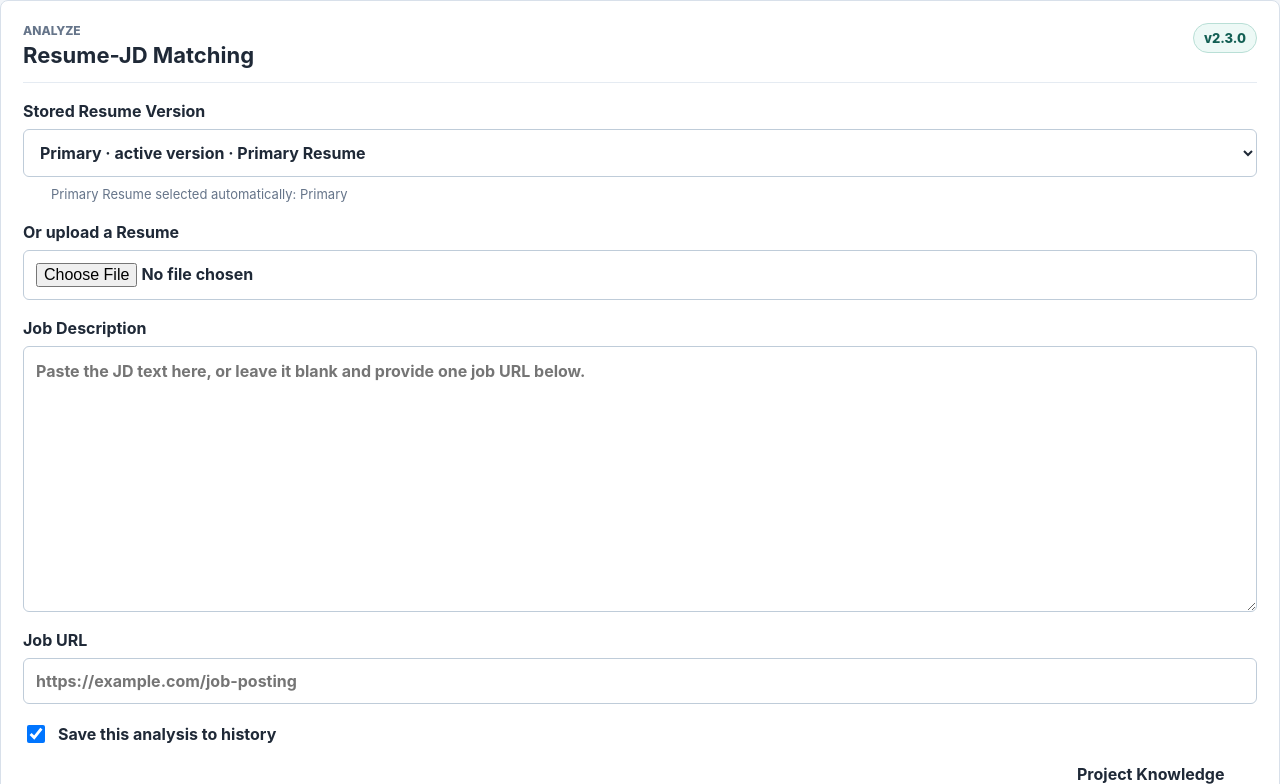
Scenario: Version 2.0.1 simplified workspace › shows a complete result without a normalization warning
Expected: the text "Primary Resume selected automatically: Primary" is shown, [51,186,348,202]
Step 1. Replace the text in the text box labelled "Job Description" with "Synthetic role" → (640, 479), box [23,346,1257,612]
(page scrolled)
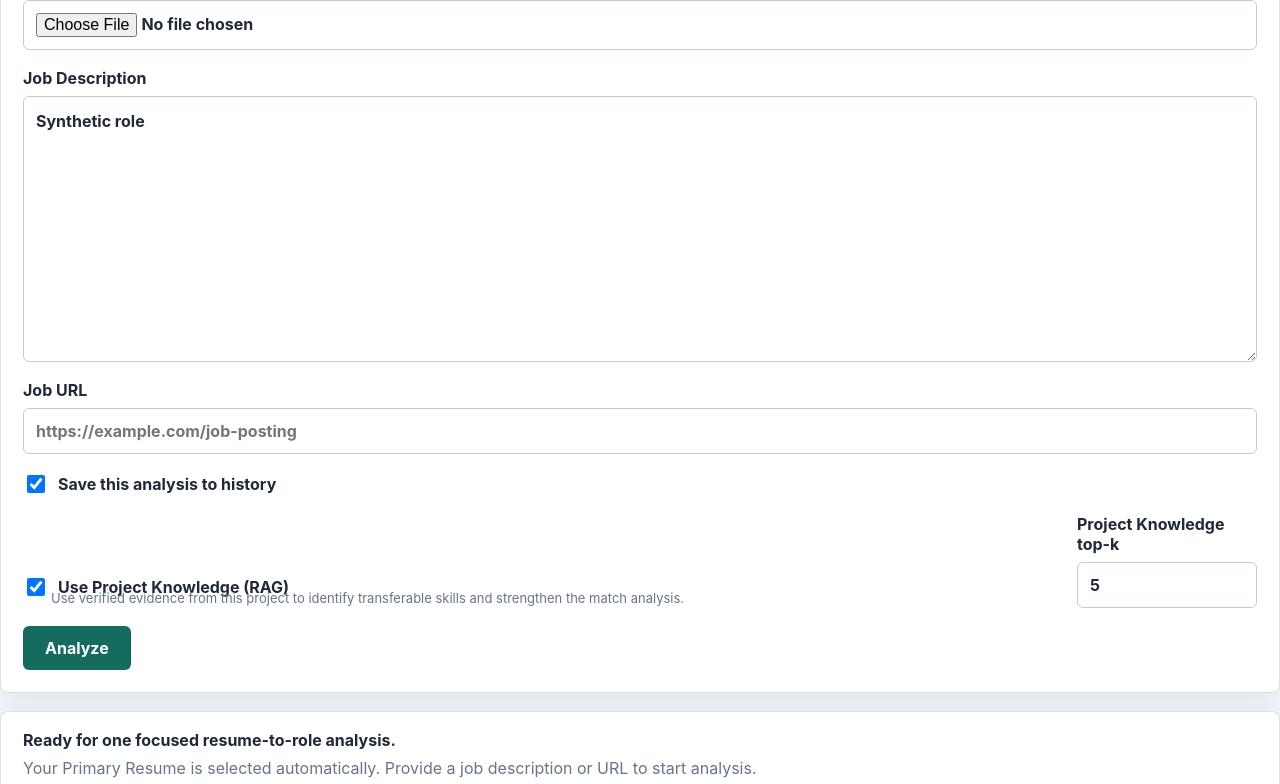
Step 2. Click the button "Analyze" → (77, 648), box [23,626,131,670]
(page scrolled)
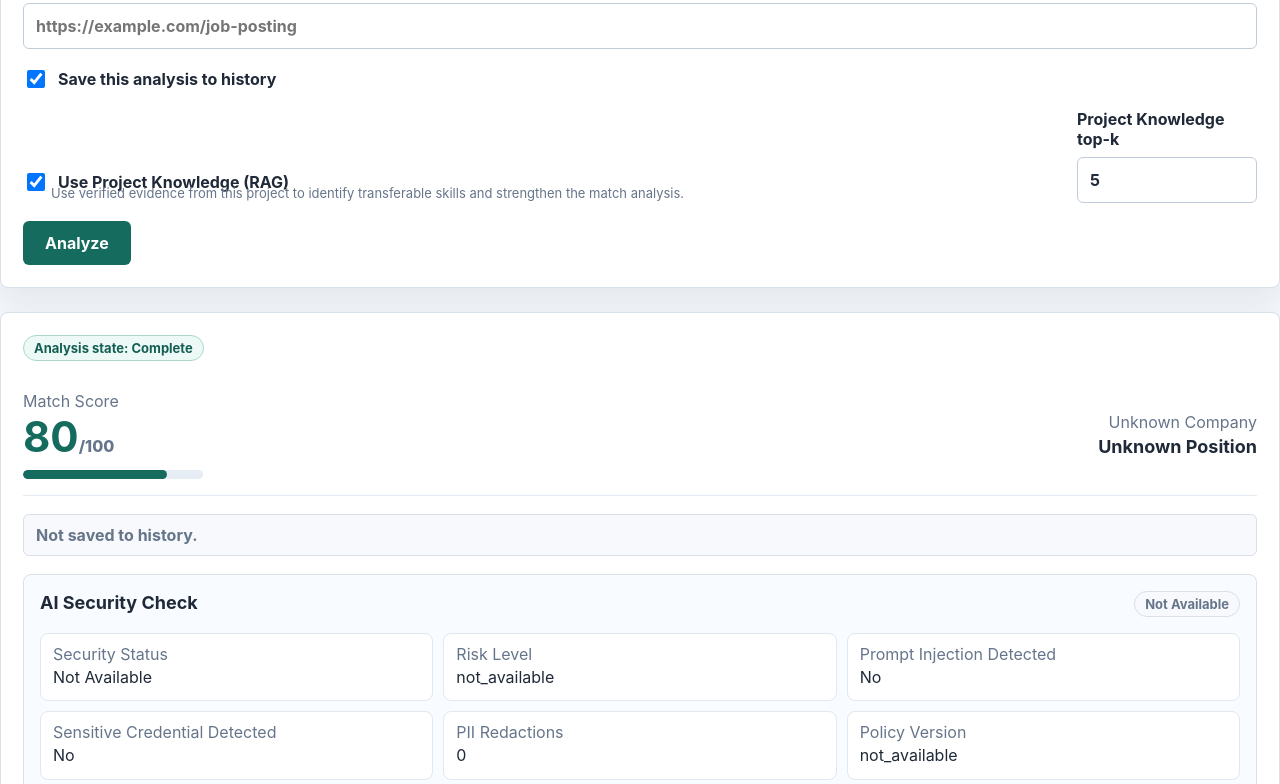
Now the text "Match Score" is shown, box [23,391,119,411]
